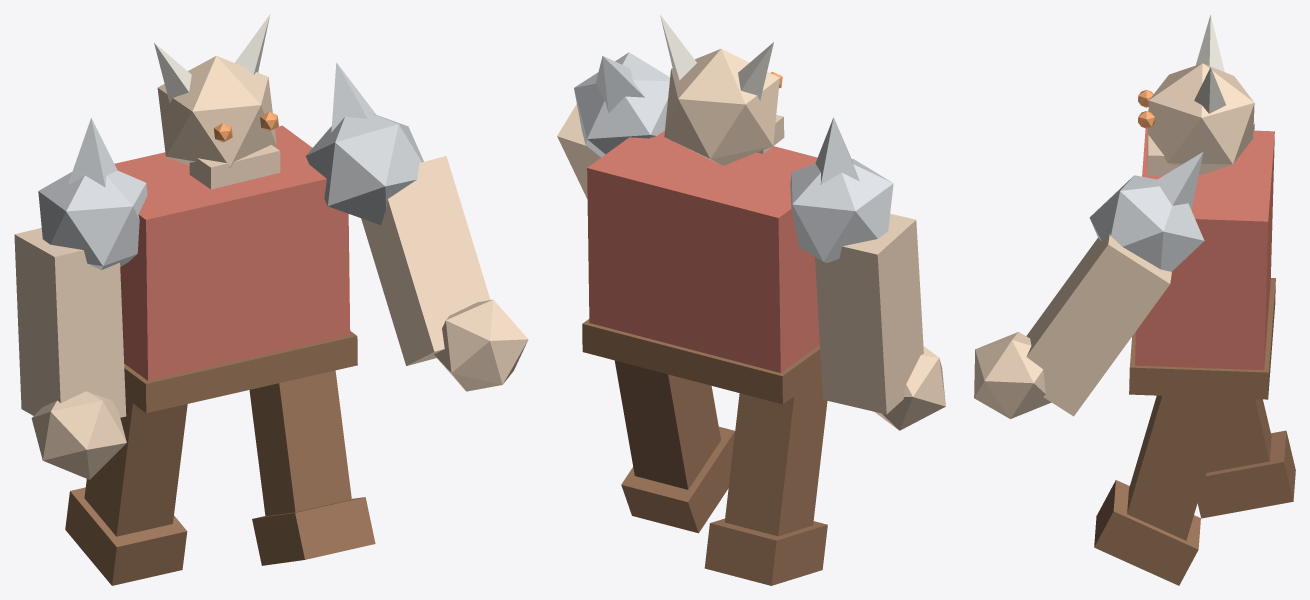
Rendered from npcpose_brute_walk_07.glb.
3 views of the same model, side by side, from view 1: azimuth 30°, elevation 25°; view 2: azimuth 150°, elevation 25°; view 3: azimuth 270°, elevation 25° (orthographic). The views are drawn at different scales.
Parts seen in each view (by area): view 1: npcpose; view 2: npcpose; view 3: npcpose.
Boxes of the visible parts, left/top/right/bottom form: npcpose: left=14, top=14, right=528, bottom=585; npcpose: left=557, top=14, right=945, bottom=585; npcpose: left=974, top=14, right=1295, bottom=585.
Size of the model in its own units: 1.46 by 1.86 by 1.09.
